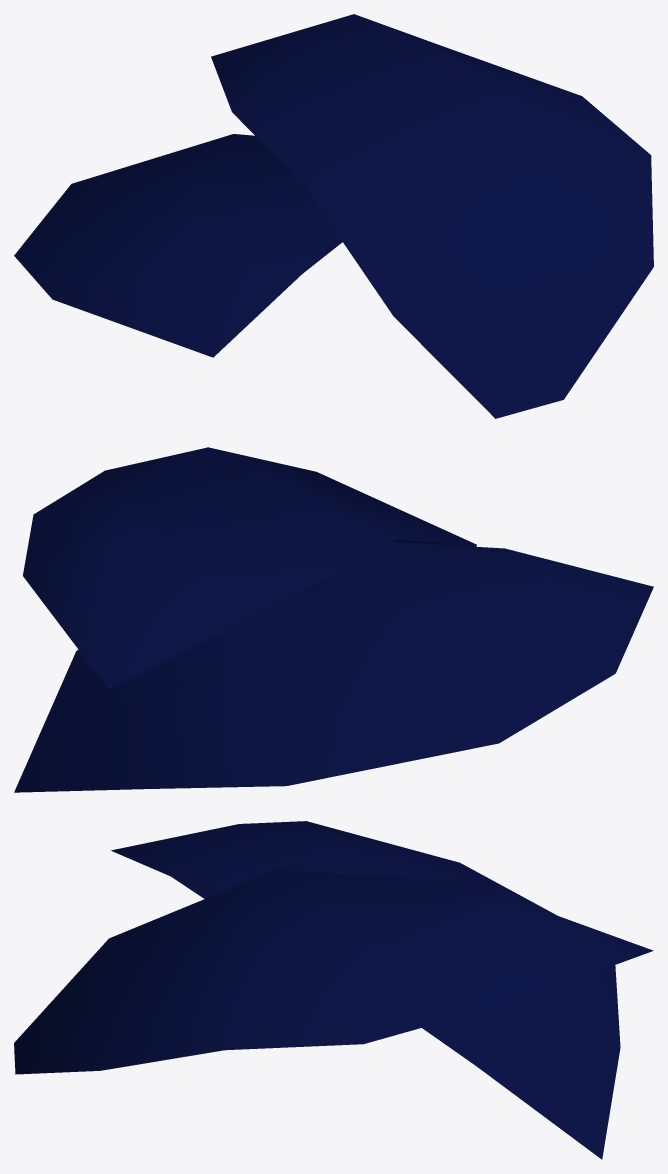
Rendered from Grass Blade Bark 1  Leaf Bed.fbx.
The picture shows the model from 3 angles, top to bottom: view 1: azimuth 30°, elevation 25°; view 2: azimuth 150°, elevation 25°; view 3: azimuth 270°, elevation 25°; orthographic projection.
Visible parts, largest first — view 1: LowPlant_03 MOSS; view 2: LowPlant_03 MOSS; view 3: LowPlant_03 MOSS.
Part boxes in pixels (bbox=[...]): LowPlant_03 MOSS: bbox=[14, 14, 653, 418]; LowPlant_03 MOSS: bbox=[14, 447, 653, 792]; LowPlant_03 MOSS: bbox=[14, 821, 653, 1159].
Bounding box in the file's own units: 5.89 × 2.36 × 5.95.
